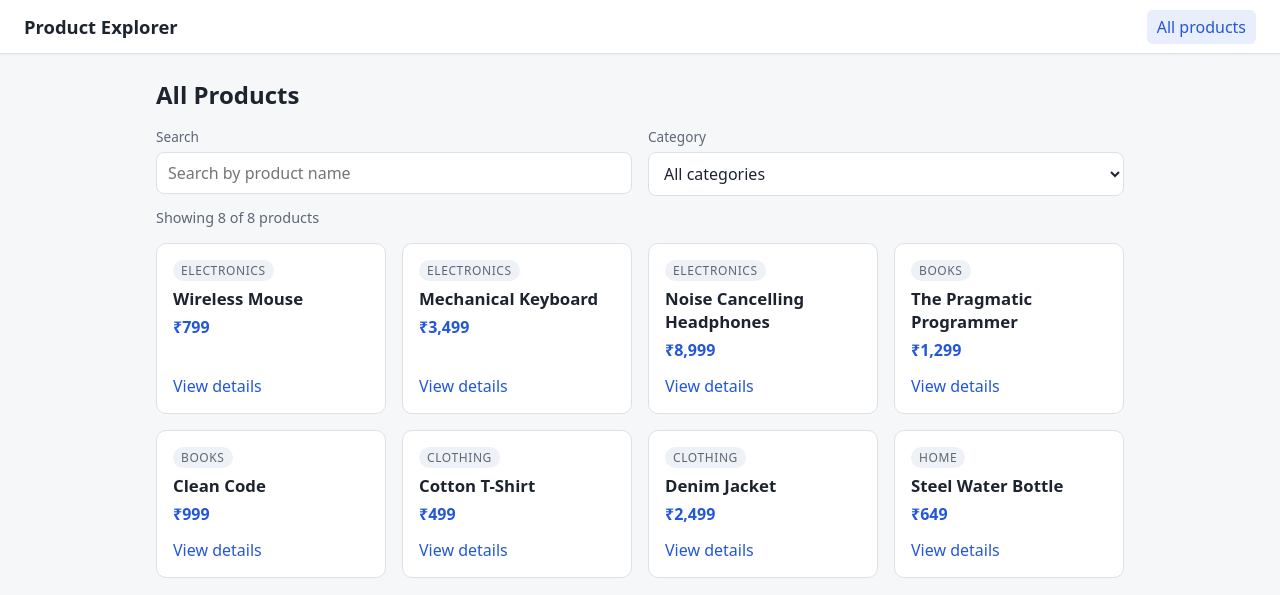
Test: Task 2 - search and filter › combines search and category
Select "Electronics" in the dropdown labelled "Category" at (886, 174), box left=648, top=152, right=1124, bottom=196
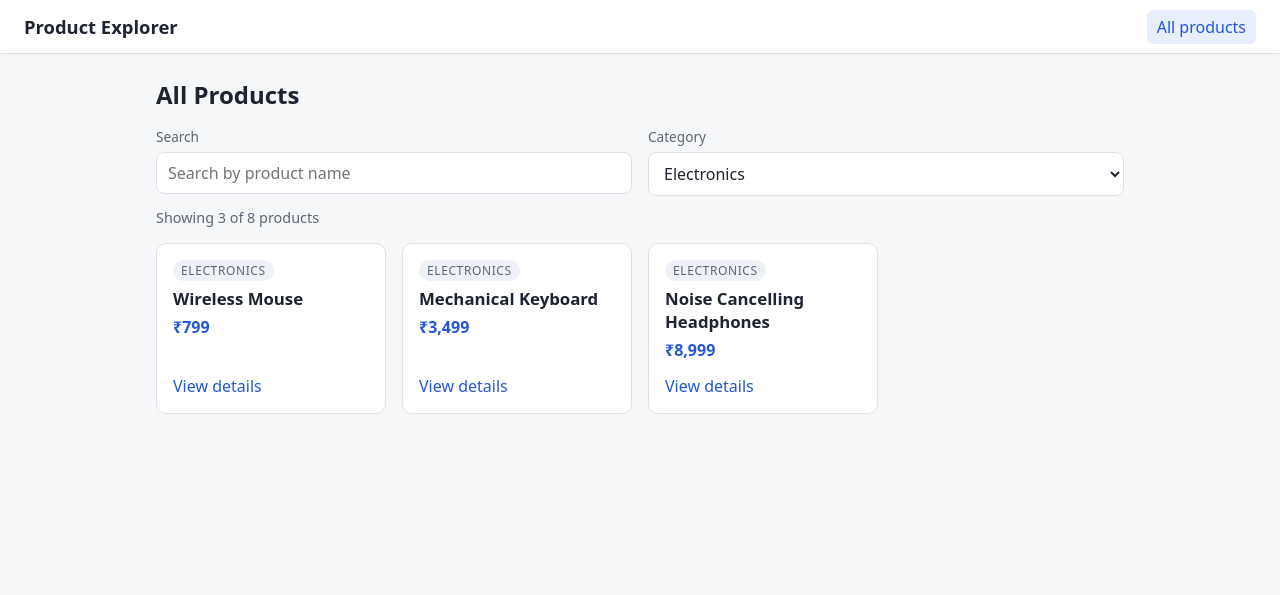
Type "key" into the search field labelled "Search".
click(394, 173); type("key")  # box left=156, top=152, right=632, bottom=194
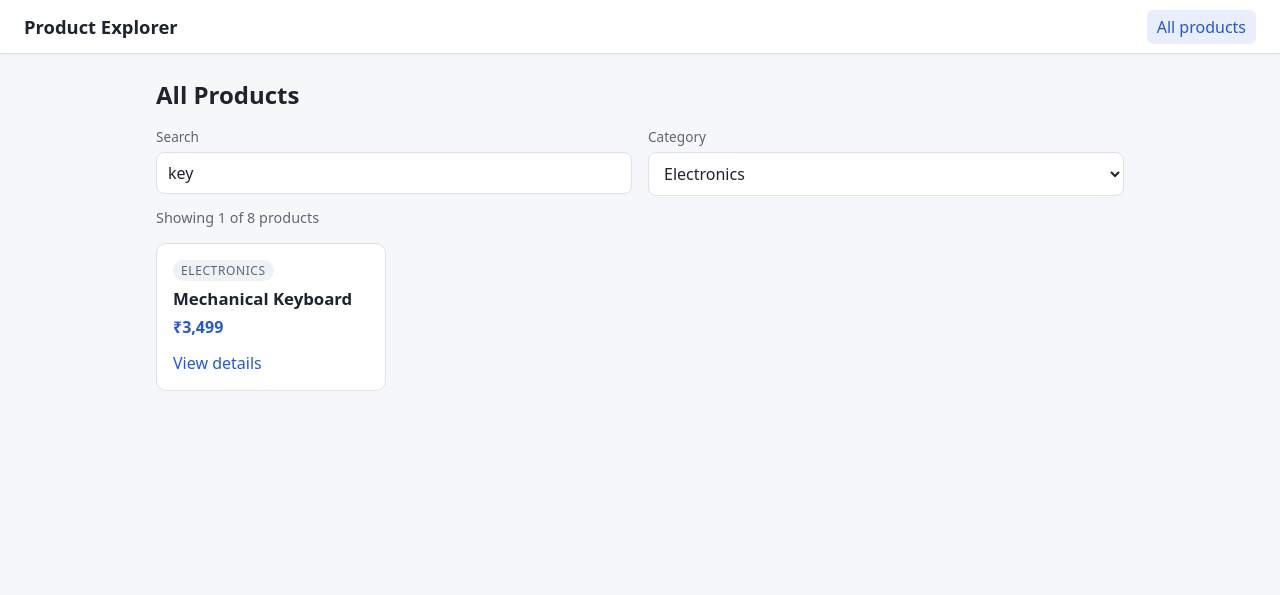
Replace the text in the search field labelled "Search" with "jacket" at (394, 173), box left=156, top=152, right=632, bottom=194
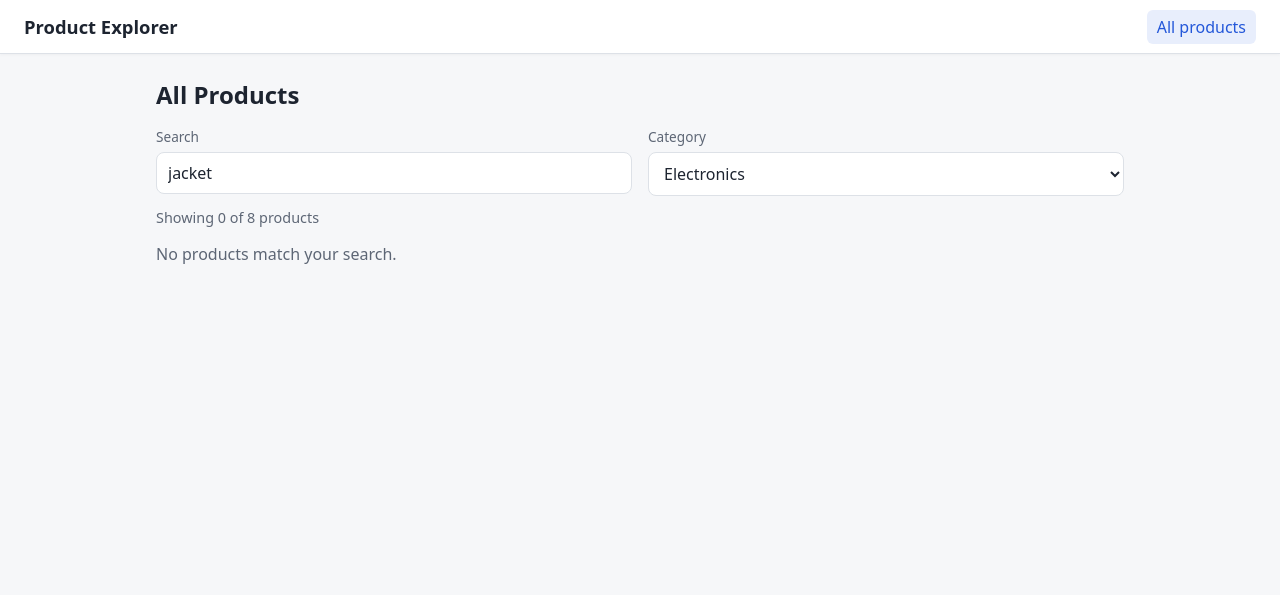
Now the text "No products match your search." is shown, box left=156, top=243, right=397, bottom=265
